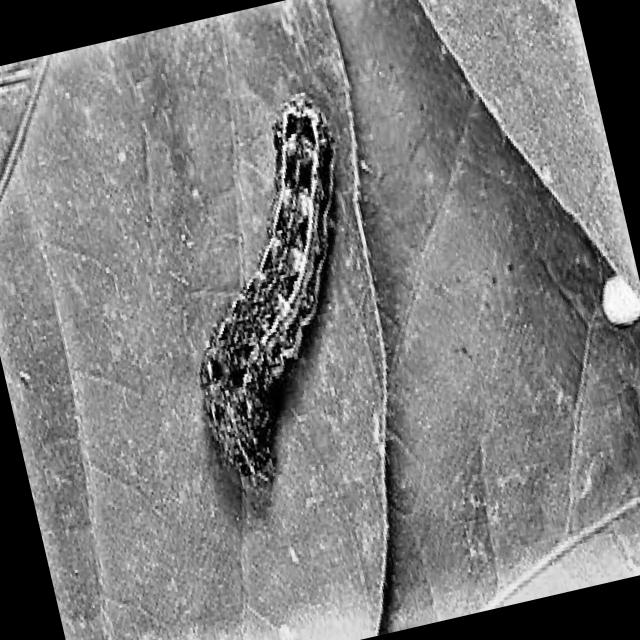Armyworm: (112, 37, 427, 523)
